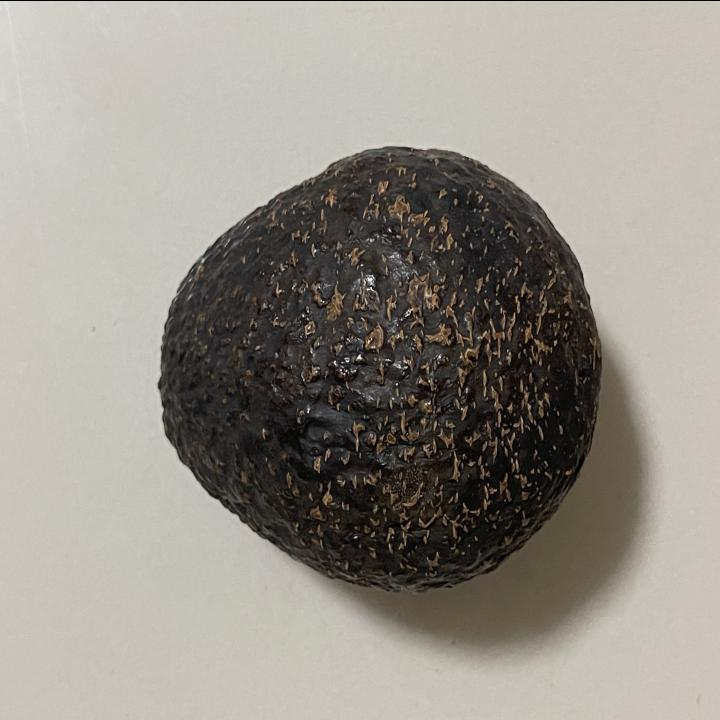Level3: (148, 130, 610, 606)
